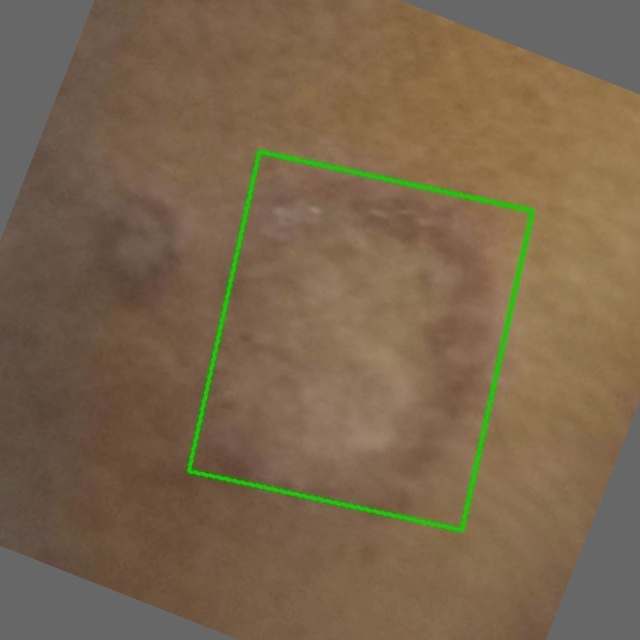Tinea Corporis: (188, 151, 531, 530)
